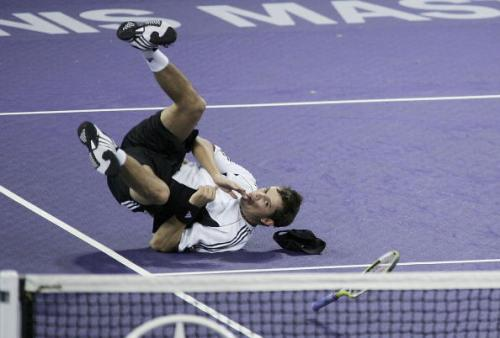fall: (72, 9, 321, 258)
